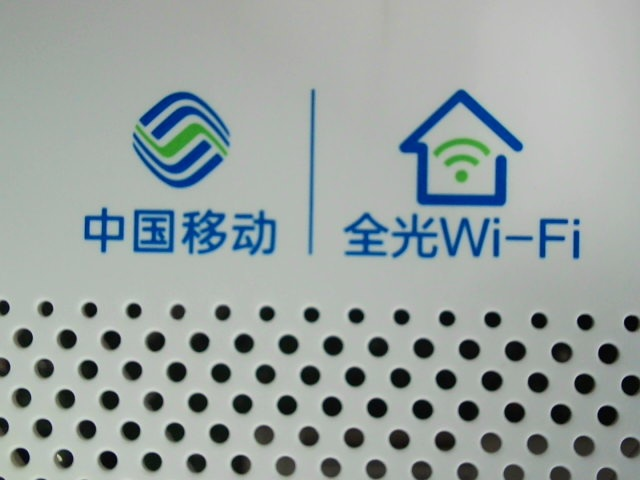BJ_QuanGuangMobile: (76, 84, 581, 266)
